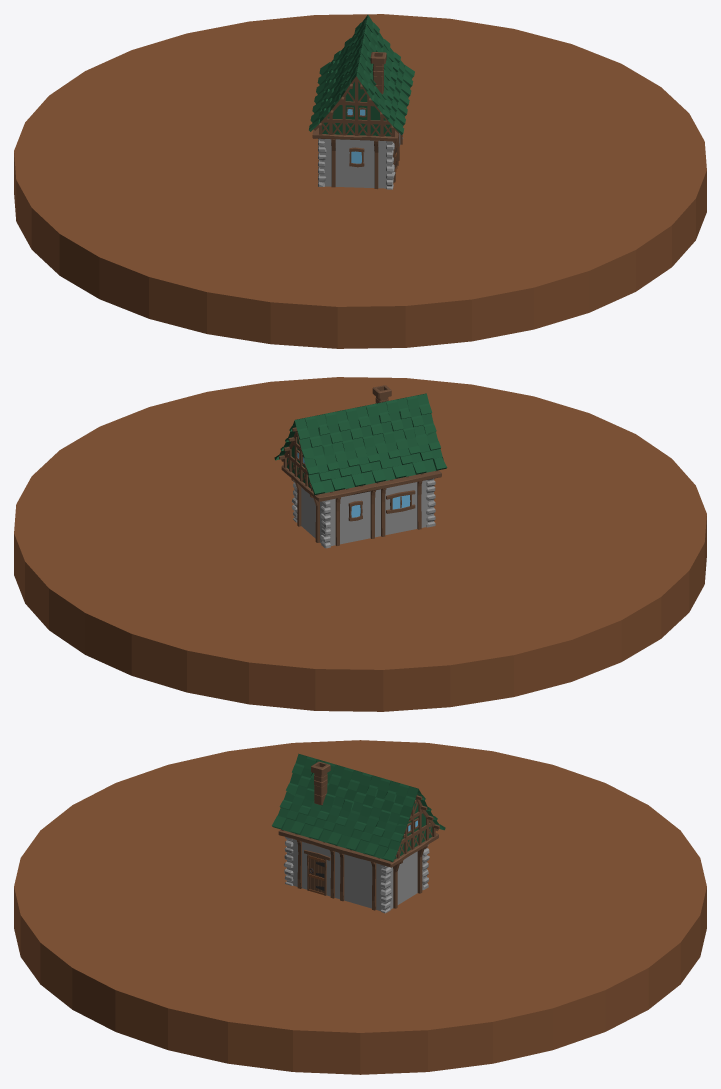
The model's file is settlement.fbx.
3 renders of one model, top to bottom at view 1: azimuth 30°, elevation 25°; view 2: azimuth 150°, elevation 25°; view 3: azimuth 270°, elevation 25°, orthographic.
Parts seen in each view (by area): view 1: Cube.001; view 2: Cube.001; view 3: Cube.001.
Boxes of the visible parts, left/top/right/bottom form: Cube.001: left=14, top=14, right=706, bottom=348; Cube.001: left=14, top=377, right=706, bottom=711; Cube.001: left=14, top=740, right=706, bottom=1074.
Size of the model in its own units: 180 by 46.51 by 180.
